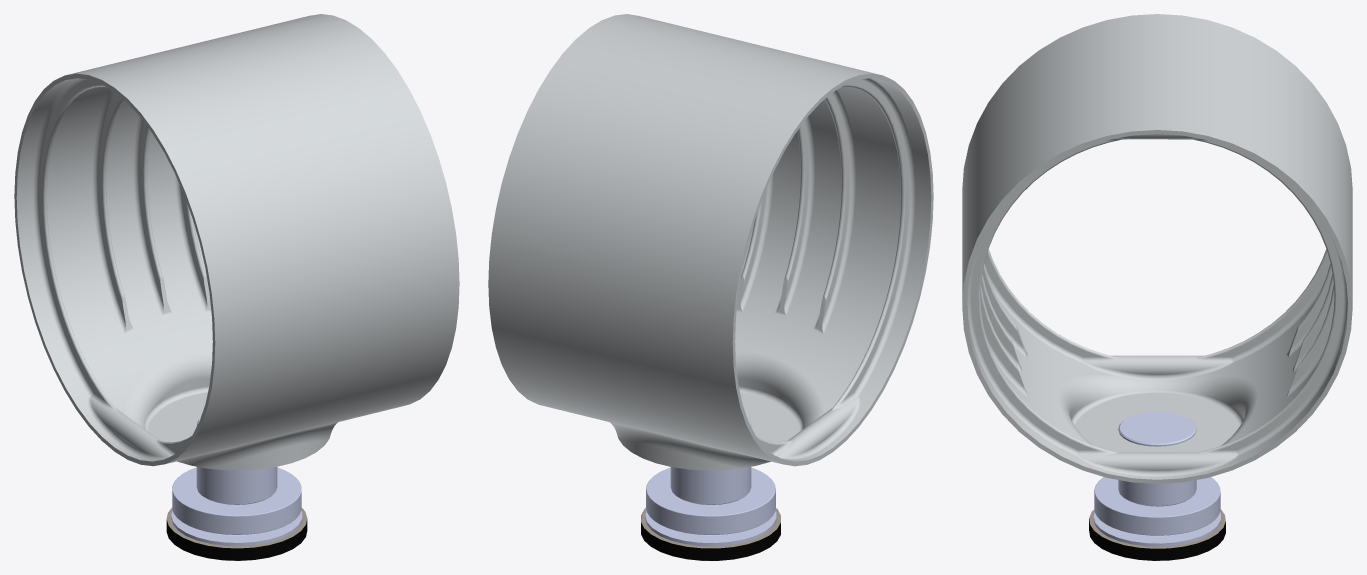
The model's file is ankle.dae.
3 renders of one model, left to right at view 1: azimuth 30°, elevation 25°; view 2: azimuth 150°, elevation 25°; view 3: azimuth 270°, elevation 25°, orthographic. The views are drawn at different scales.
Visible parts, largest first — view 1: _3DGeom_270, _3DGeom_269, _3DGeom_271, _3DGeom_268; view 2: _3DGeom_270, _3DGeom_269, _3DGeom_271, _3DGeom_268; view 3: _3DGeom_270, _3DGeom_269, _3DGeom_271, _3DGeom_268.
Boxes of the visible parts, x1,y1,x2,y2 form: _3DGeom_270: (14,14,459,470); _3DGeom_269: (171,418,302,546); _3DGeom_271: (166,519,307,560); _3DGeom_268: (166,507,307,560); _3DGeom_270: (488,14,933,470); _3DGeom_269: (645,418,776,546); _3DGeom_271: (641,522,780,560); _3DGeom_268: (641,508,780,560); _3DGeom_270: (962,14,1352,483); _3DGeom_269: (1093,411,1220,546); _3DGeom_271: (1089,519,1225,560); _3DGeom_268: (1089,509,1225,560).
Size of the model in its own units: 0.1194 by 0.17 by 0.221.
